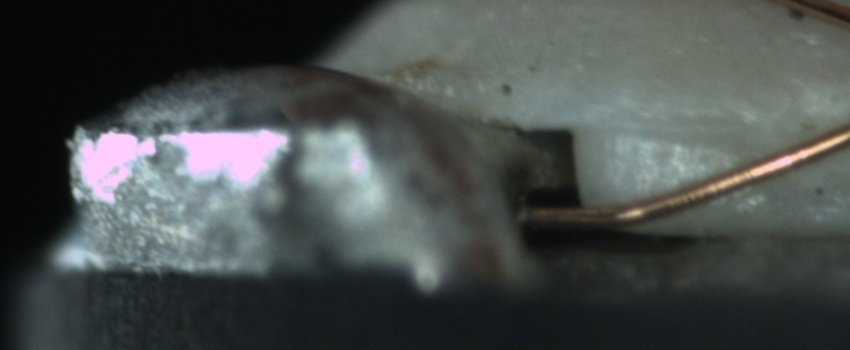DL: (601, 92, 753, 162)
